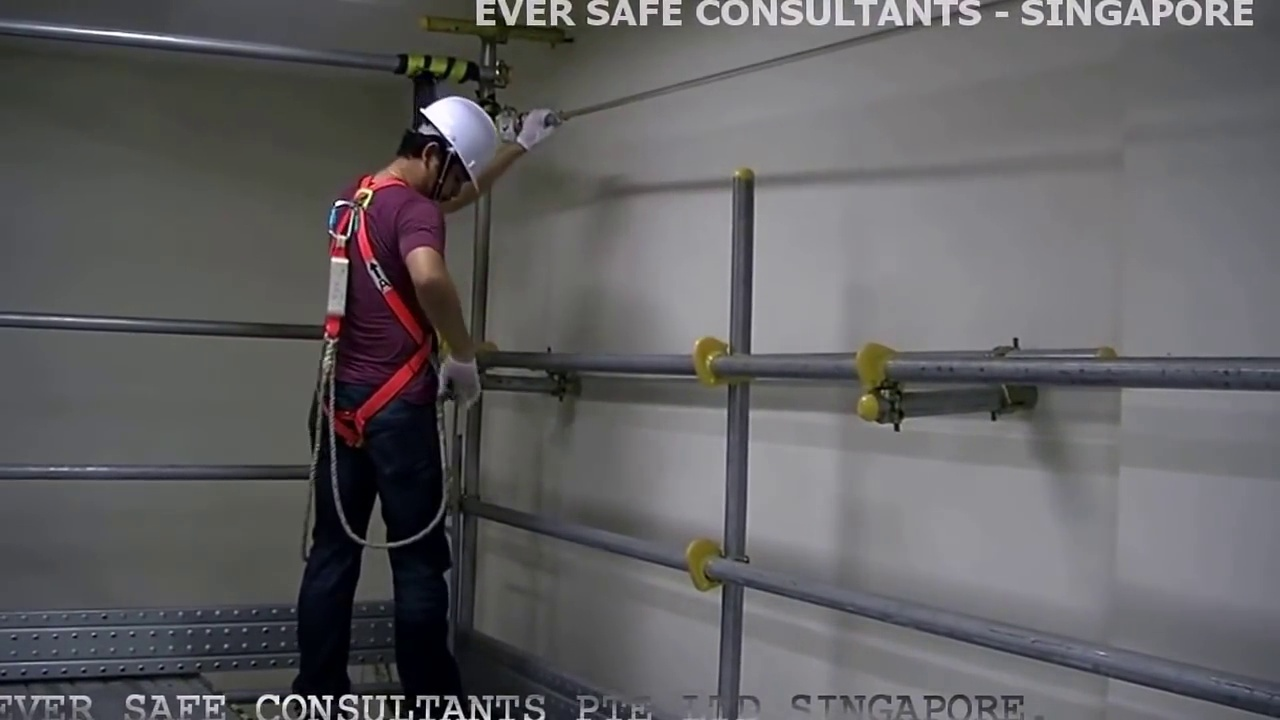harness: (323, 183, 416, 429)
helmet: (429, 97, 508, 175)
leash: (295, 443, 451, 547)
